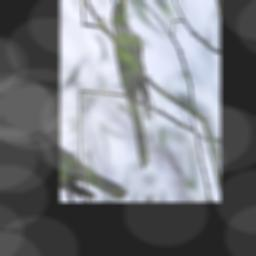Cuckoo: (73, 0, 193, 175)
